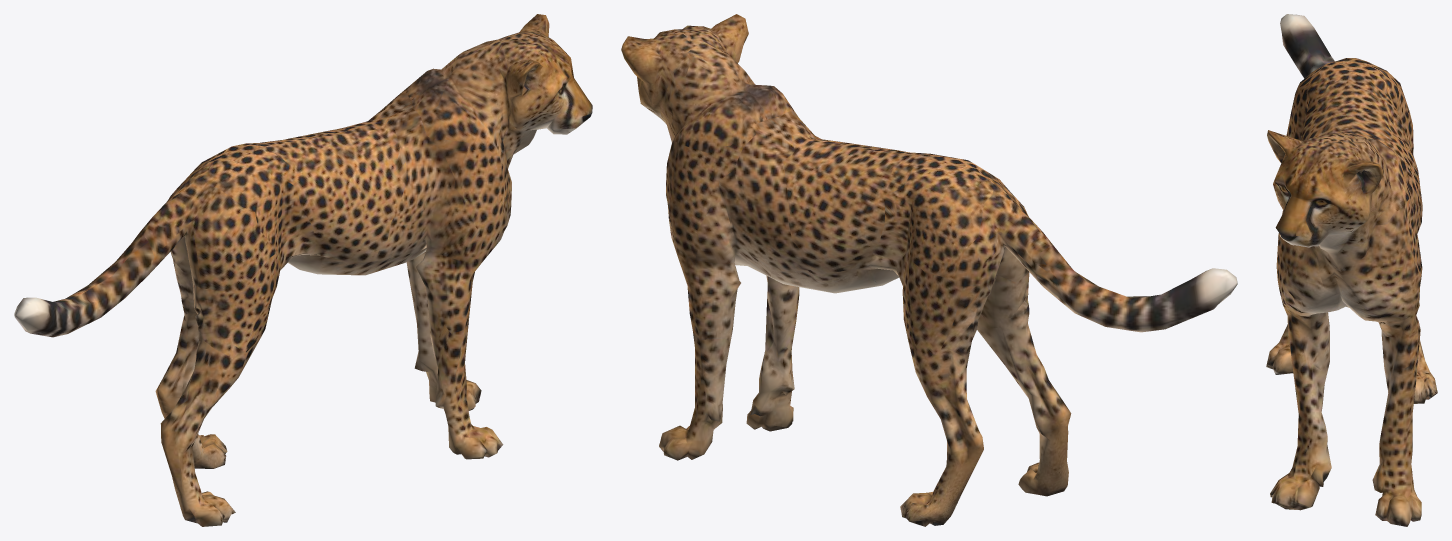
The model's file is TALLYSPOT-lo.glb.
3 renders of one model, left to right at view 1: azimuth 30°, elevation 25°; view 2: azimuth 150°, elevation 25°; view 3: azimuth 270°, elevation 25°, orthographic.
Visible parts, largest first — view 1: tripo_node_7f93a78c-3bb6-4324-9142-c23a5966e903; view 2: tripo_node_7f93a78c-3bb6-4324-9142-c23a5966e903; view 3: tripo_node_7f93a78c-3bb6-4324-9142-c23a5966e903.
Part boxes in pixels (left/top/right/bottom): tripo_node_7f93a78c-3bb6-4324-9142-c23a5966e903: left=14, top=14, right=592, bottom=526; tripo_node_7f93a78c-3bb6-4324-9142-c23a5966e903: left=621, top=14, right=1237, bottom=526; tripo_node_7f93a78c-3bb6-4324-9142-c23a5966e903: left=1266, top=14, right=1437, bottom=526.
Size of the model in its own units: 1.55 by 0.9966 by 0.3925.
Materials: 1 (1 with a texture image).
